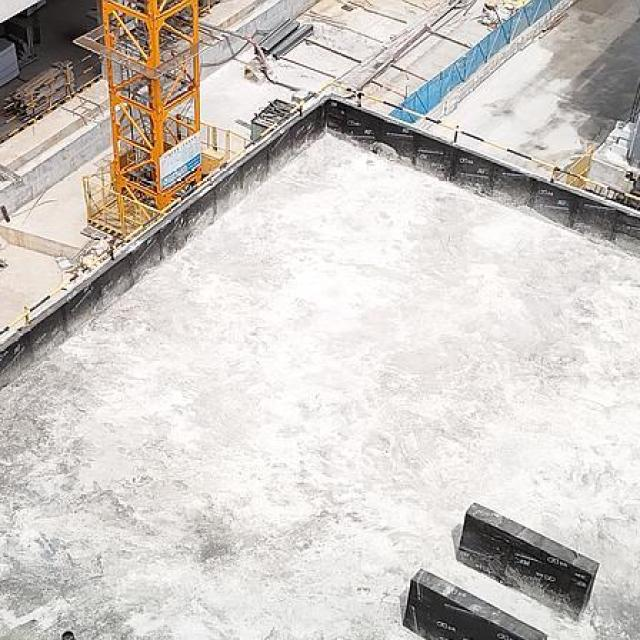Guardrail: (0, 80, 640, 334), (0, 52, 104, 142)
